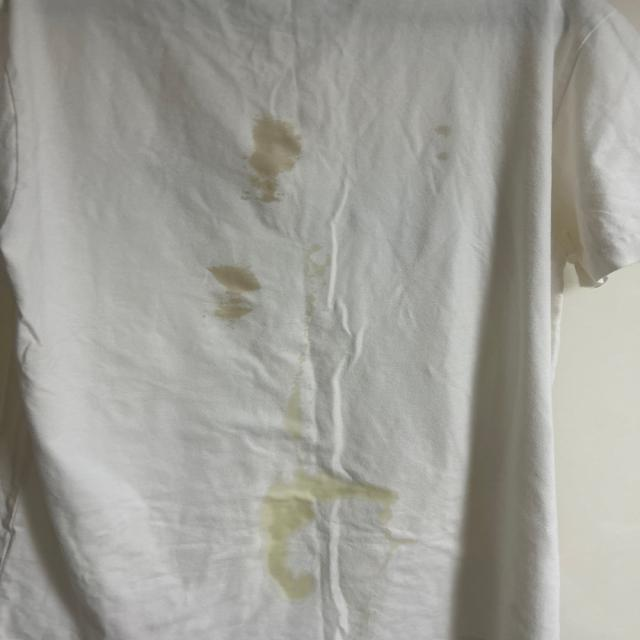stain: (252, 472, 390, 606), (230, 112, 308, 220), (184, 264, 264, 327), (278, 380, 329, 460), (282, 237, 339, 289), (404, 115, 458, 165)
